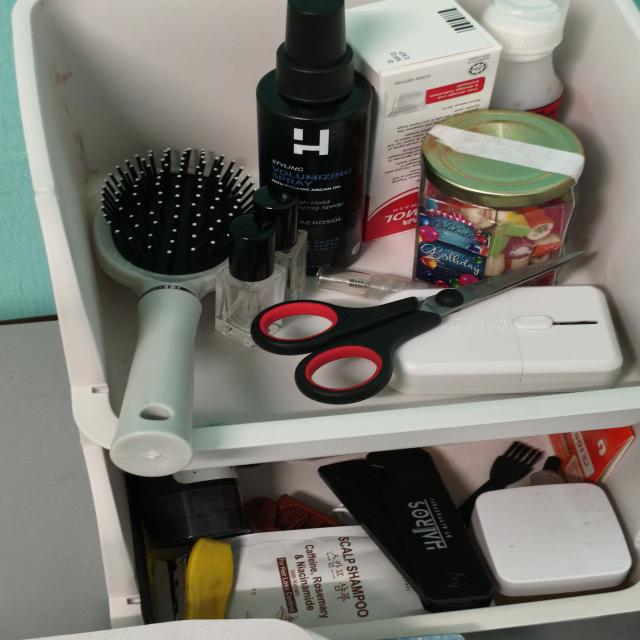scissor: (251, 251, 584, 404)
